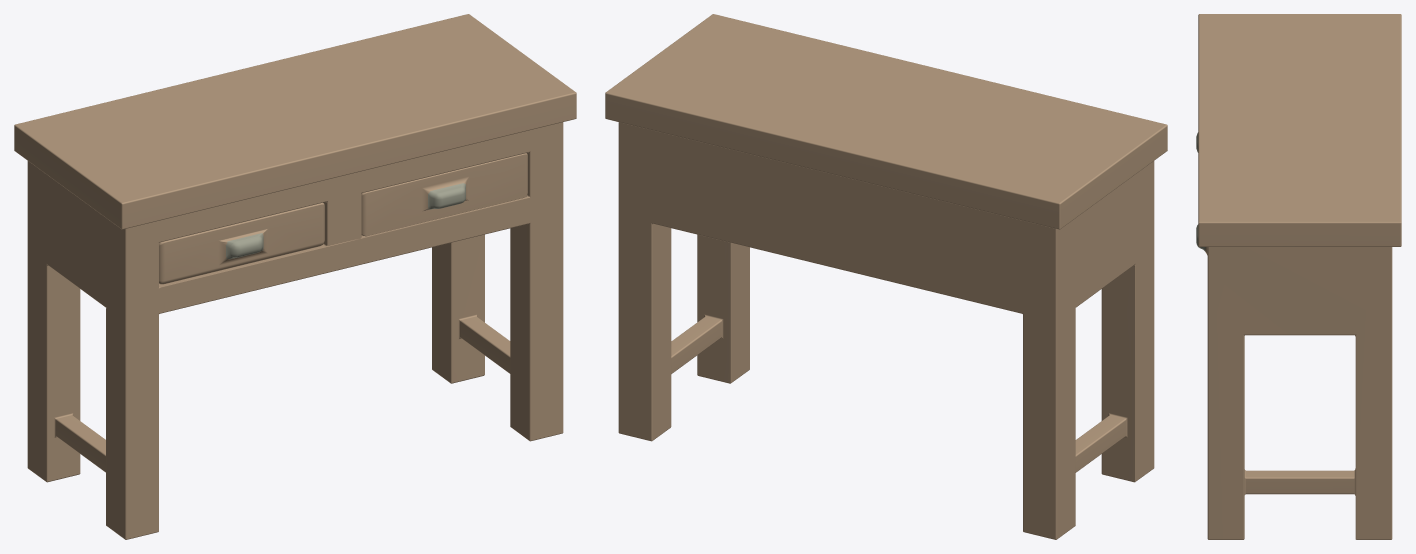
The model's file is sideTableDrawers.glb.
3 views of the same model, side by side, from view 1: azimuth 30°, elevation 25°; view 2: azimuth 150°, elevation 25°; view 3: azimuth 270°, elevation 25° (orthographic). The views are drawn at different scales.
Parts seen in each view (by area): view 1: sideTableDrawers(Clone), drawerRight, drawerLeft; view 2: sideTableDrawers(Clone); view 3: sideTableDrawers(Clone).
Part boxes in pixels (bbox=[...]): sideTableDrawers(Clone): bbox=[14, 14, 576, 539]; drawerRight: bbox=[361, 153, 527, 236]; drawerLeft: bbox=[159, 202, 324, 284]; sideTableDrawers(Clone): bbox=[605, 14, 1167, 539]; sideTableDrawers(Clone): bbox=[1198, 14, 1401, 539].
Size of the model in its own units: 0.5345 by 0.3844 by 0.2223.
